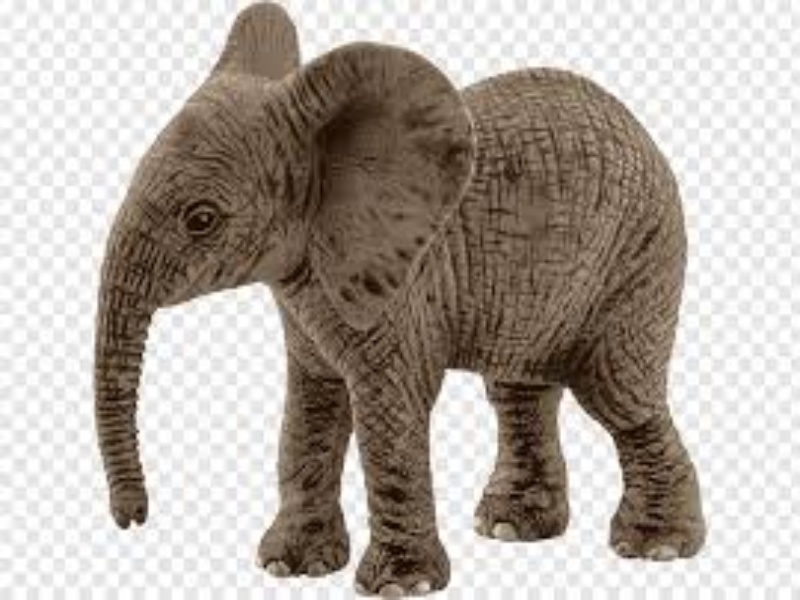elephant: (45, 6, 760, 596)
